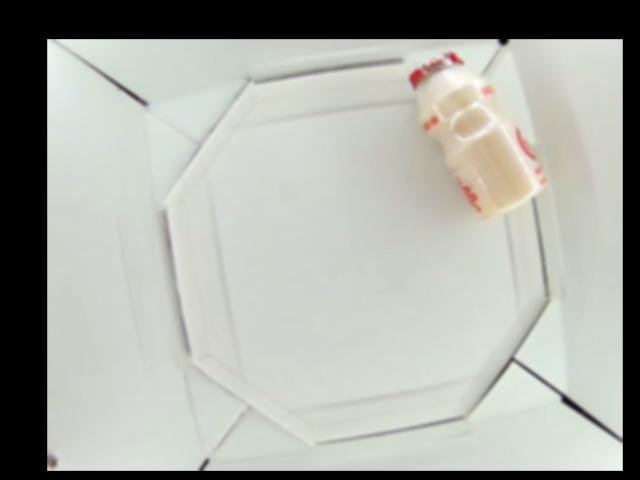Bottle: (413, 49, 549, 216)
